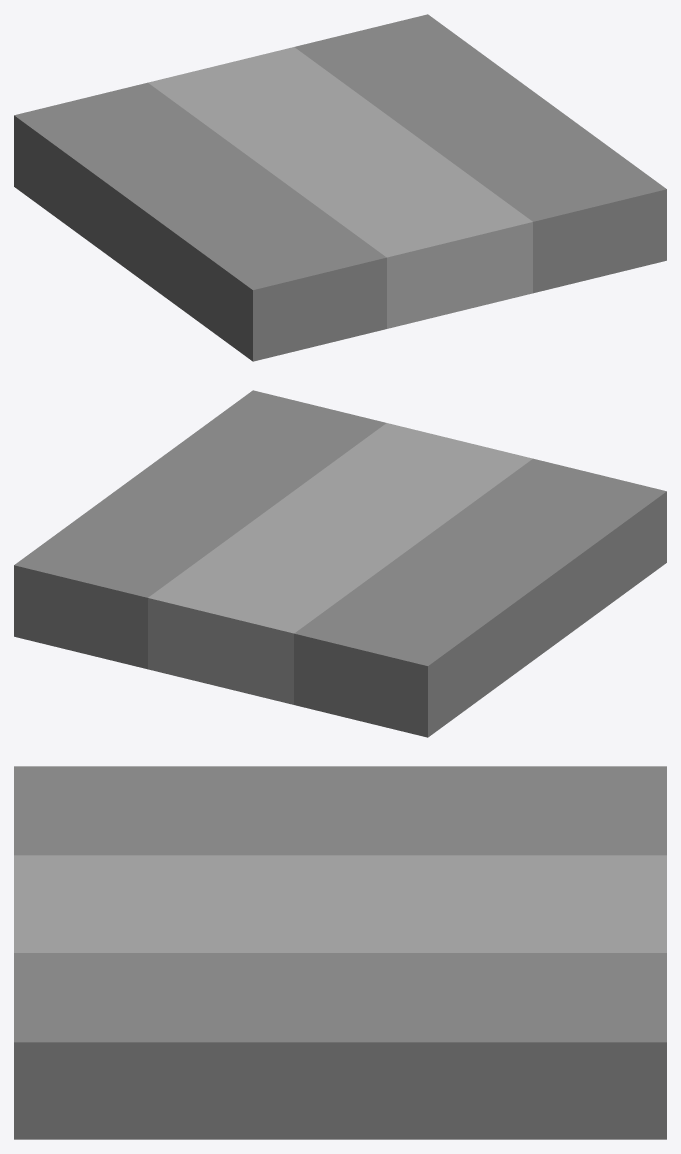
Rendered from Link B Gray.fbx.
The picture shows the model from 3 angles, top to bottom: view 1: azimuth 30°, elevation 25°; view 2: azimuth 150°, elevation 25°; view 3: azimuth 270°, elevation 25°; orthographic projection. The views are drawn at different scales.
Visible parts, largest first — view 1: Link B Gray; view 2: Link B Gray; view 3: Link B Gray.
Part boxes in pixels (left/top/right/bottom): Link B Gray: left=14, top=14, right=666, bottom=361; Link B Gray: left=14, top=390, right=666, bottom=737; Link B Gray: left=14, top=766, right=666, bottom=1139.
Size of the model in its own units: 300 by 49.49 by 300.
